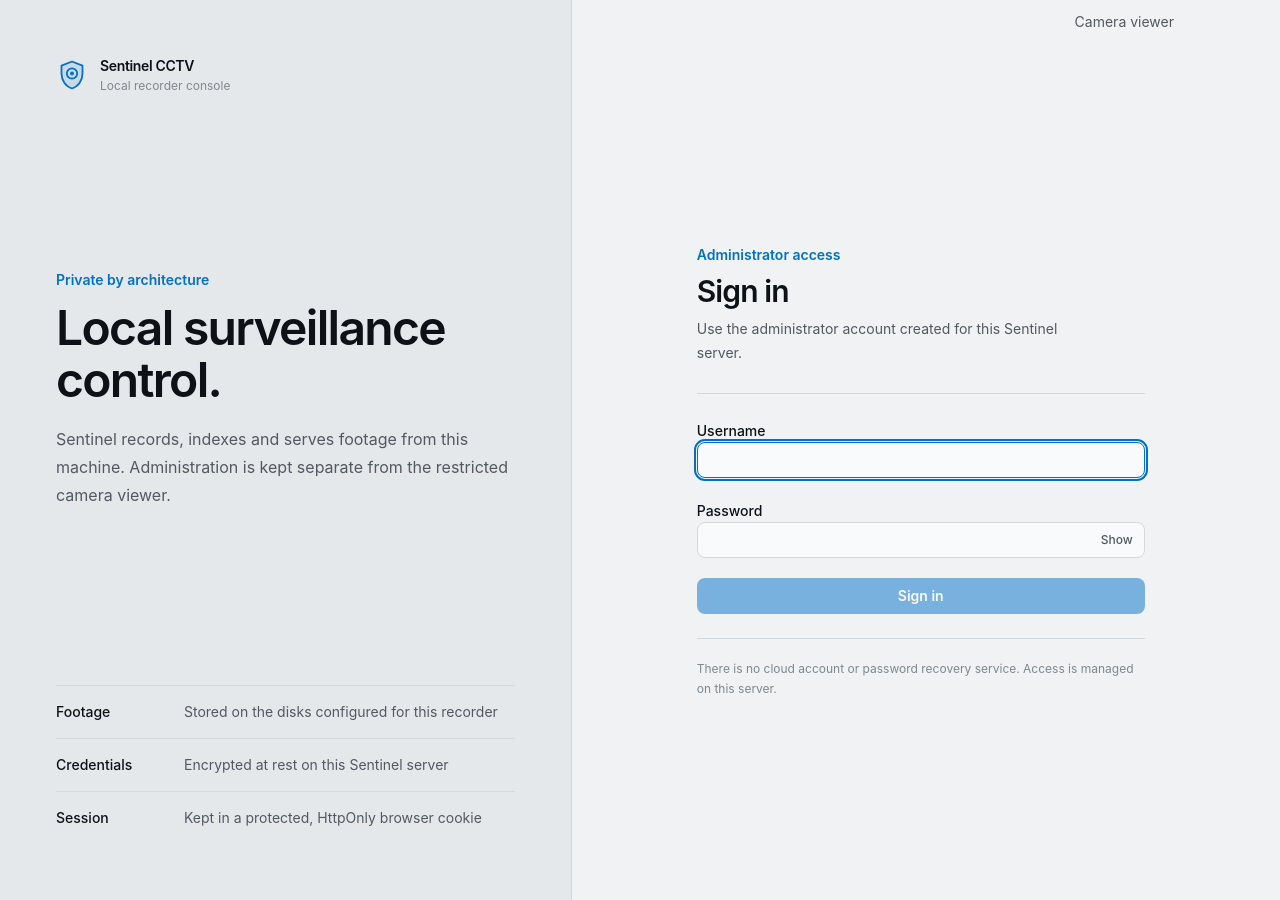
Scenario: LoginPage › shows the server message when credentials are wrong
Type "operator" into the field labelled "Username".
click(921, 460); type("operator")  # box [697,442,1145,478]
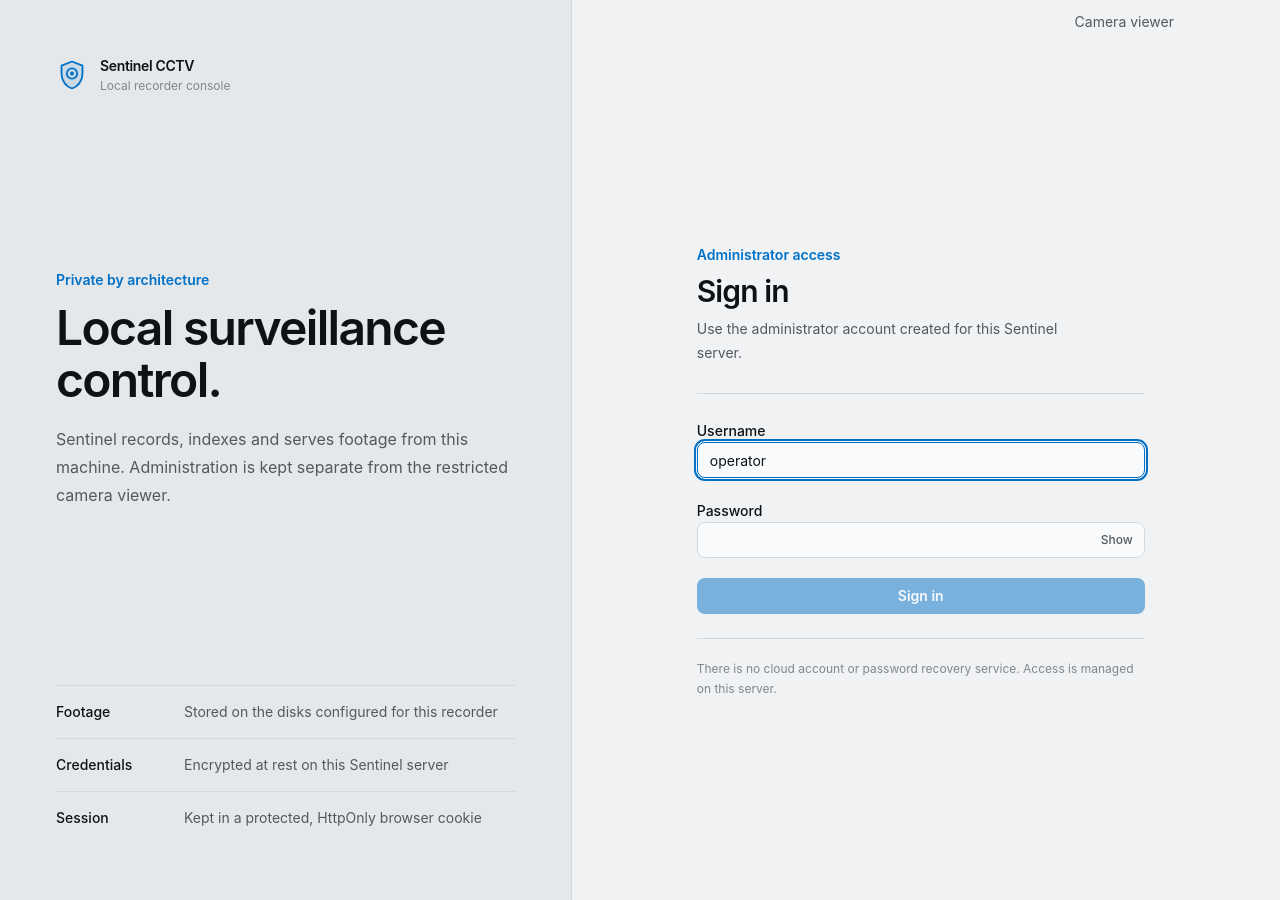
Type "wrong" into the password field labelled "Password".
click(921, 540); type("wrong")  # box [697,522,1145,558]
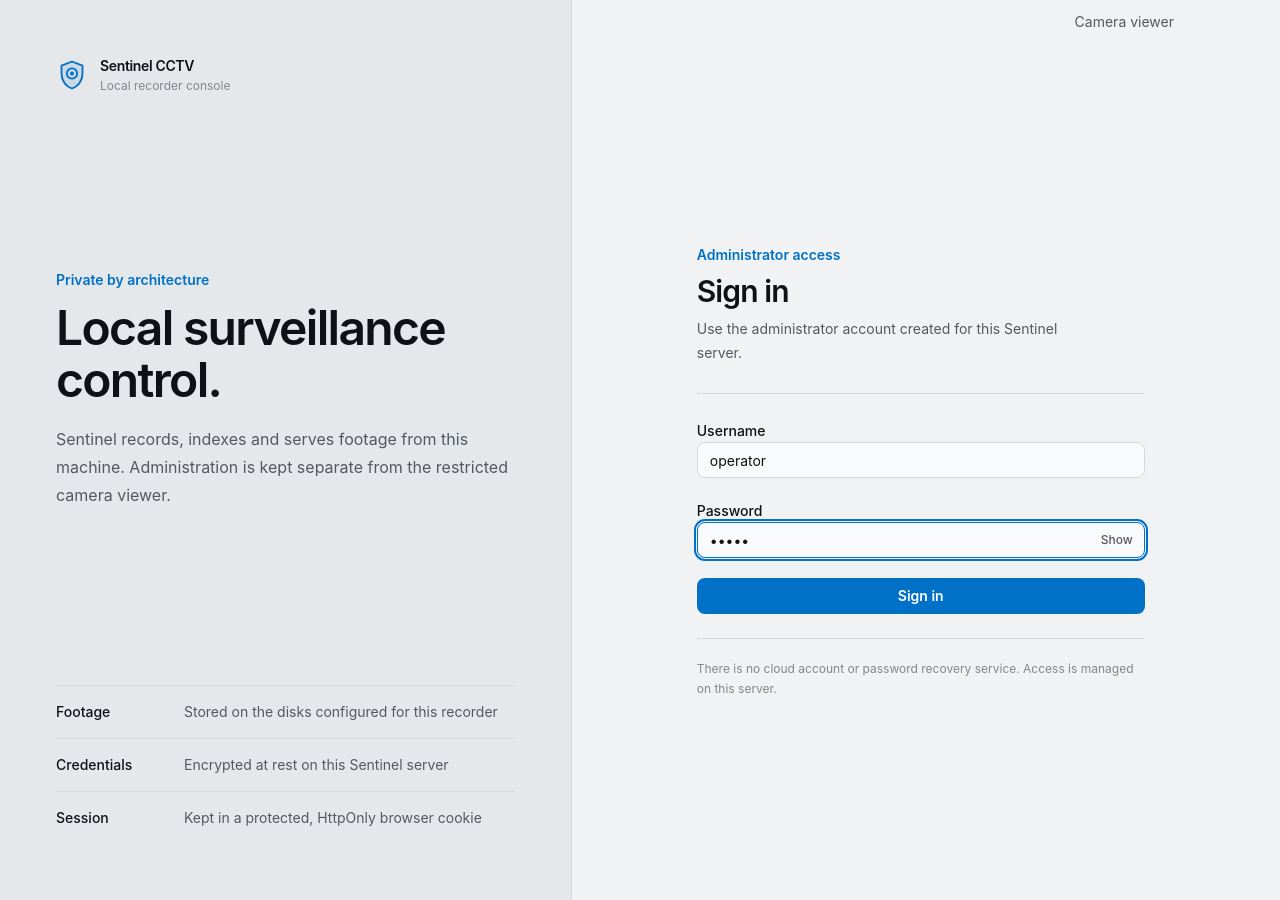
Click the button "Sign in".
click(921, 596)  # box [697,578,1145,614]
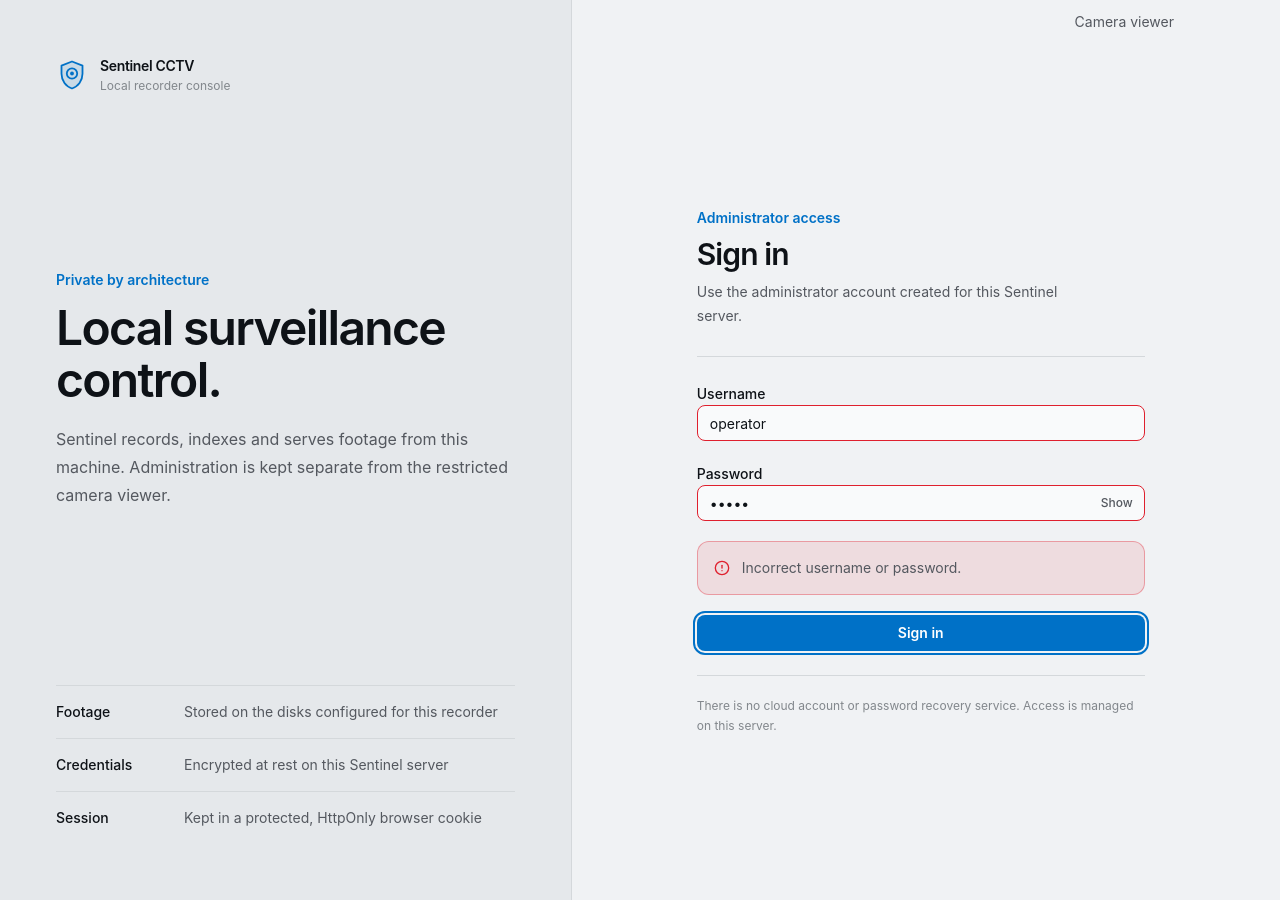
Expected: the message reads "Incorrect username or password.", [742,559,961,576]
